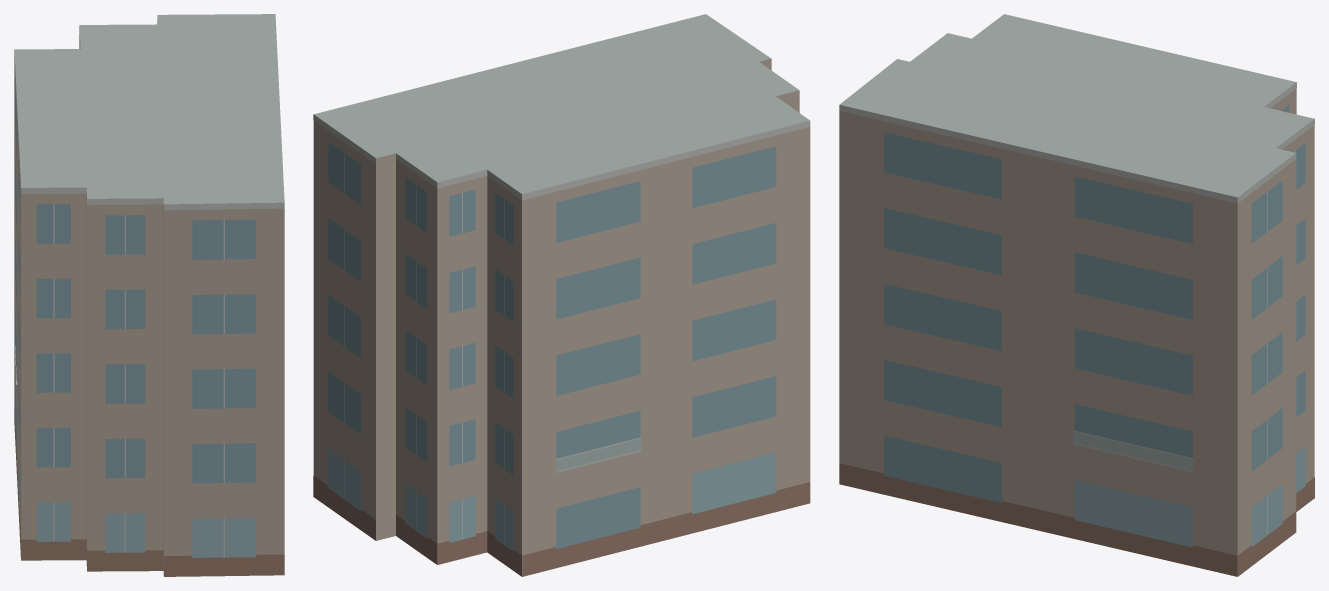
Rendered from survey-upis-32994678.glb.
3 views of the same model, side by side, from view 1: azimuth 30°, elevation 25°; view 2: azimuth 150°, elevation 25°; view 3: azimuth 270°, elevation 25° (orthographic). The views are drawn at different scales.
Parts seen in each view (by area): view 1: survey-upis-32994678.tmp; view 2: survey-upis-32994678.tmp; view 3: survey-upis-32994678.tmp.
Part boxes in pixels (box(x1,y1,x2,y2)): survey-upis-32994678.tmp: box(14, 14, 284, 576); survey-upis-32994678.tmp: box(313, 14, 810, 576); survey-upis-32994678.tmp: box(839, 14, 1314, 576).
Bounding box in the file's own units: 15.82 × 15.25 × 17.33.
